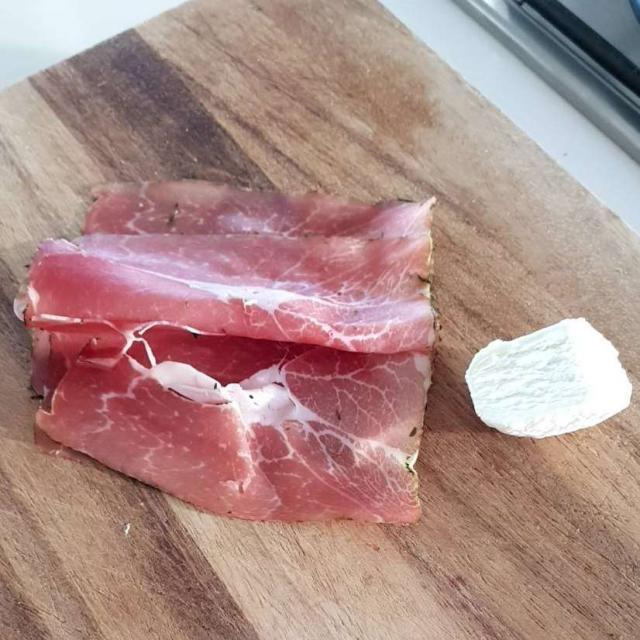cheese: (466, 310, 609, 430)
